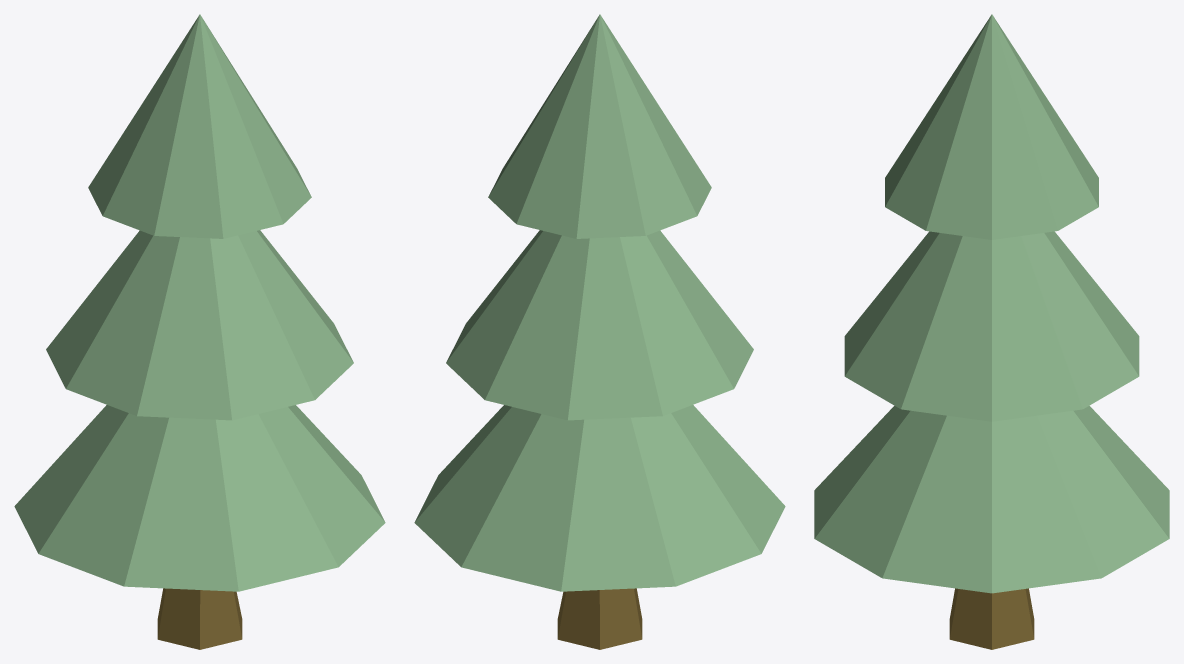
Rendered from pine_lowpoly1.fbx.
3 views of the same model, side by side, from view 1: azimuth 30°, elevation 25°; view 2: azimuth 150°, elevation 25°; view 3: azimuth 270°, elevation 25° (orthographic).
Visible parts, largest first — view 1: pine_lowpoly1; view 2: pine_lowpoly1; view 3: pine_lowpoly1.
Boxes of the visible parts, bbox=[...] form: pine_lowpoly1: bbox=[14, 14, 385, 649]; pine_lowpoly1: bbox=[414, 14, 785, 649]; pine_lowpoly1: bbox=[814, 14, 1169, 649].
Size of the model in its own units: 1.87 by 3.4 by 1.78.
